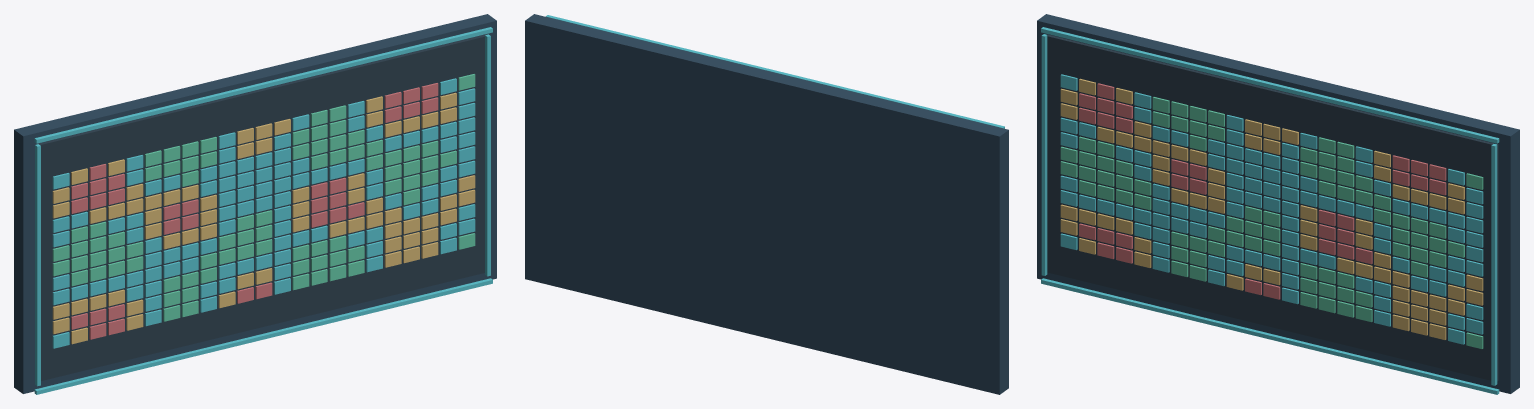
The model's file is 11_L73_MicroscopicSurfaceTopography.glb.
3 views of the same model, side by side, from view 1: azimuth 30°, elevation 25°; view 2: azimuth 150°, elevation 25°; view 3: azimuth 330°, elevation 25° (orthographic).
Parts seen in each view (by area): view 1: MicroscopicSurfaceTopography_Node_0001, MicroscopicSurfaceTopography_Node_0000, MicroscopicSurfaceTopography_Node_0280, MicroscopicSurfaceTopography_Node_0281, MicroscopicSurfaceTopography_Node_0279, MicroscopicSurfaceTopography_Node_0278; view 2: MicroscopicSurfaceTopography_Node_0000, MicroscopicSurfaceTopography_Node_0281; view 3: MicroscopicSurfaceTopography_Node_0001, MicroscopicSurfaceTopography_Node_0000, MicroscopicSurfaceTopography_Node_0280, MicroscopicSurfaceTopography_Node_0281, MicroscopicSurfaceTopography_Node_0278, MicroscopicSurfaceTopography_Node_0279.
Part boxes in pixels (x1,y1,x2,y2): MicroscopicSurfaceTopography_Node_0001: (35, 34, 485, 380); MicroscopicSurfaceTopography_Node_0000: (14, 14, 496, 393); MicroscopicSurfaceTopography_Node_0280: (34, 278, 492, 394); MicroscopicSurfaceTopography_Node_0281: (34, 27, 492, 143); MicroscopicSurfaceTopography_Node_0279: (485, 34, 490, 276); MicroscopicSurfaceTopography_Node_0278: (35, 144, 40, 386); MicroscopicSurfaceTopography_Node_0000: (525, 14, 1008, 394); MicroscopicSurfaceTopography_Node_0281: (545, 15, 1004, 128); MicroscopicSurfaceTopography_Node_0001: (1047, 34, 1498, 381); MicroscopicSurfaceTopography_Node_0000: (1037, 14, 1519, 393); MicroscopicSurfaceTopography_Node_0280: (1041, 278, 1499, 394); MicroscopicSurfaceTopography_Node_0281: (1041, 27, 1499, 143); MicroscopicSurfaceTopography_Node_0278: (1041, 34, 1047, 275); MicroscopicSurfaceTopography_Node_0279: (1491, 144, 1497, 385).
Bounding box in the file's own units: 2.98 × 1.55 × 0.153.
